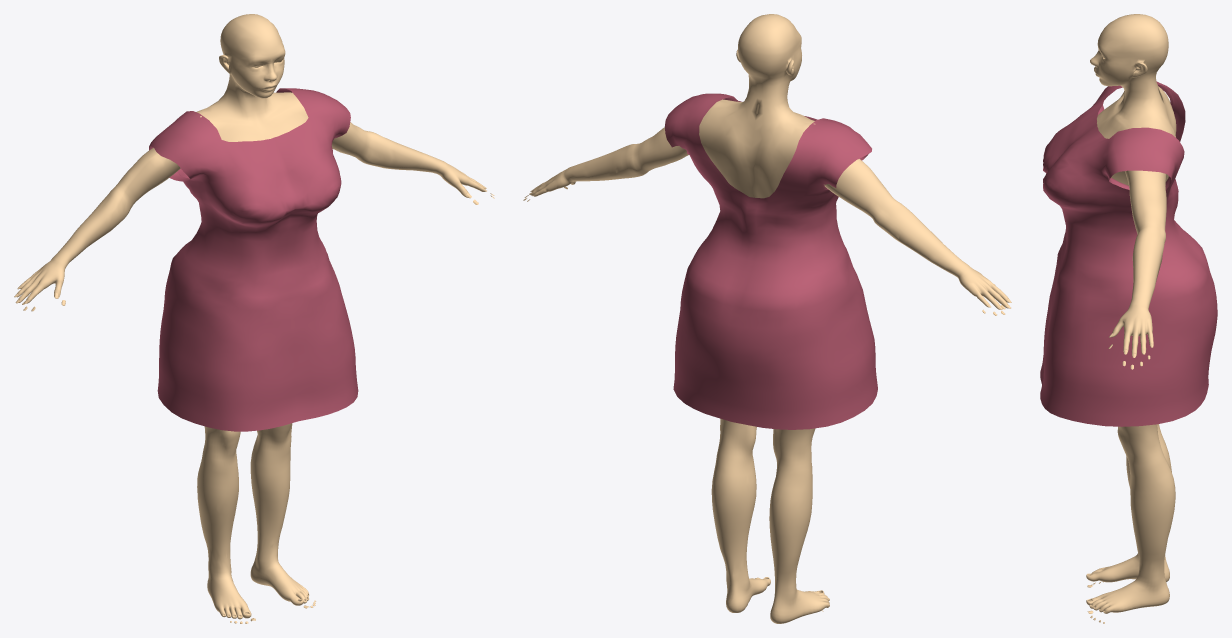
Rendered from dress7.glb.
The picture shows the model from 3 angles, left to right: view 1: azimuth 30°, elevation 25°; view 2: azimuth 150°, elevation 25°; view 3: azimuth 270°, elevation 25°; orthographic projection. The views are drawn at different scales.
Visible parts, largest first — view 1: Jennifer.F_Dress_01, Body.003; view 2: Jennifer.F_Dress_01, Body.003; view 3: Jennifer.F_Dress_01, Body.003.
Part boxes in pixels (x1,y1,x2,y2): Jennifer.F_Dress_01: (149, 88, 358, 431); Body.003: (16, 14, 485, 619); Jennifer.F_Dress_01: (664, 93, 877, 429); Body.003: (530, 14, 1009, 623); Jennifer.F_Dress_01: (1040, 81, 1217, 426); Body.003: (1086, 14, 1176, 613).
Size of the model in its own units: 1.6 by 1.87 by 0.5149.
